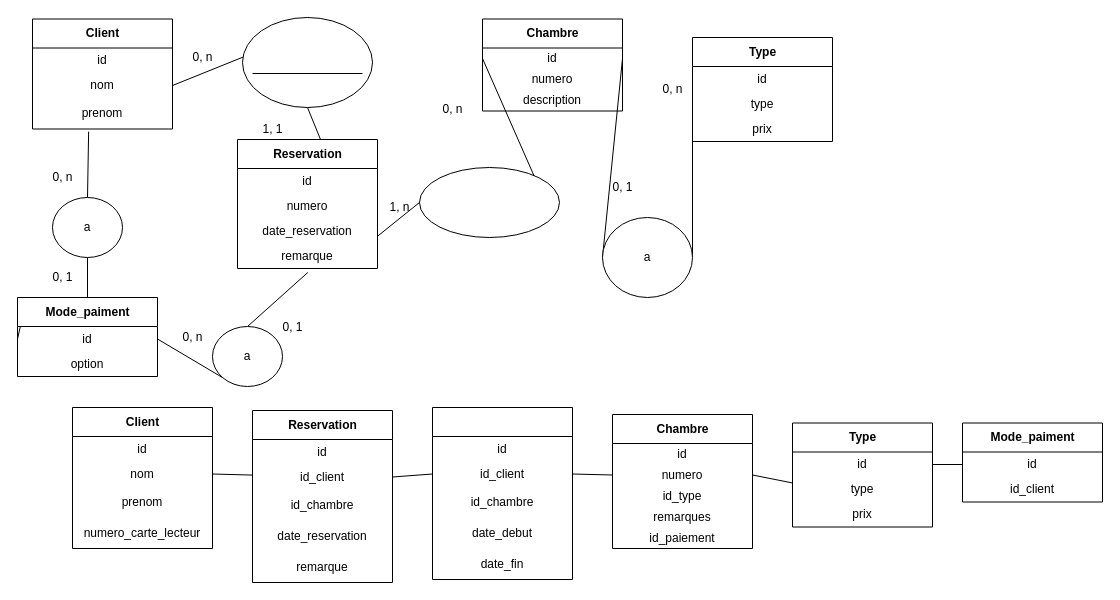
The diagram is 1120 pixels wide and 600 high, and some of its shapes have lost their labels. The shapes that lost their labels are listed below. From the top down, each one's box as (x1, y1, x2, y2) in pixels, then its label:
(242, 16, 372, 108): fait
(418, 166, 560, 238): a date_entree date_sortie avis
(432, 406, 572, 580): Chambre_reservee
